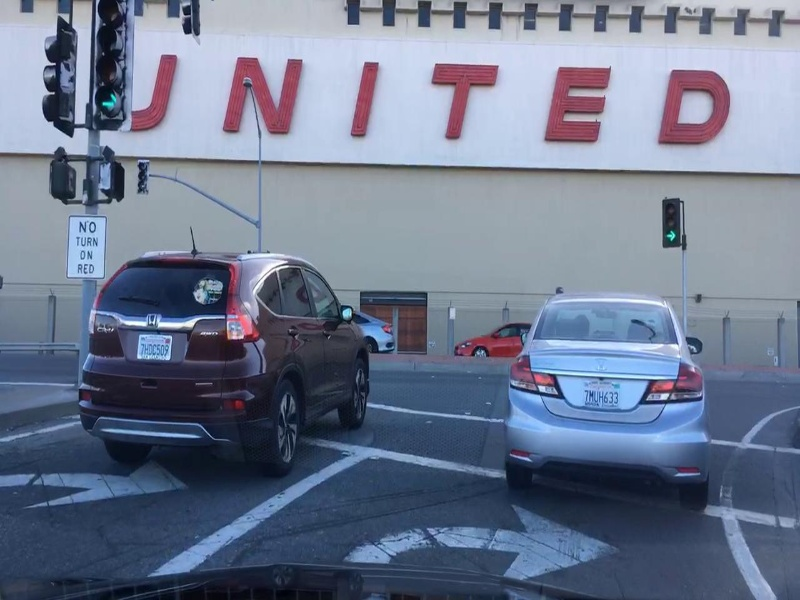car: (66, 247, 403, 473), (487, 283, 729, 523), (340, 296, 401, 353), (454, 320, 531, 356)
